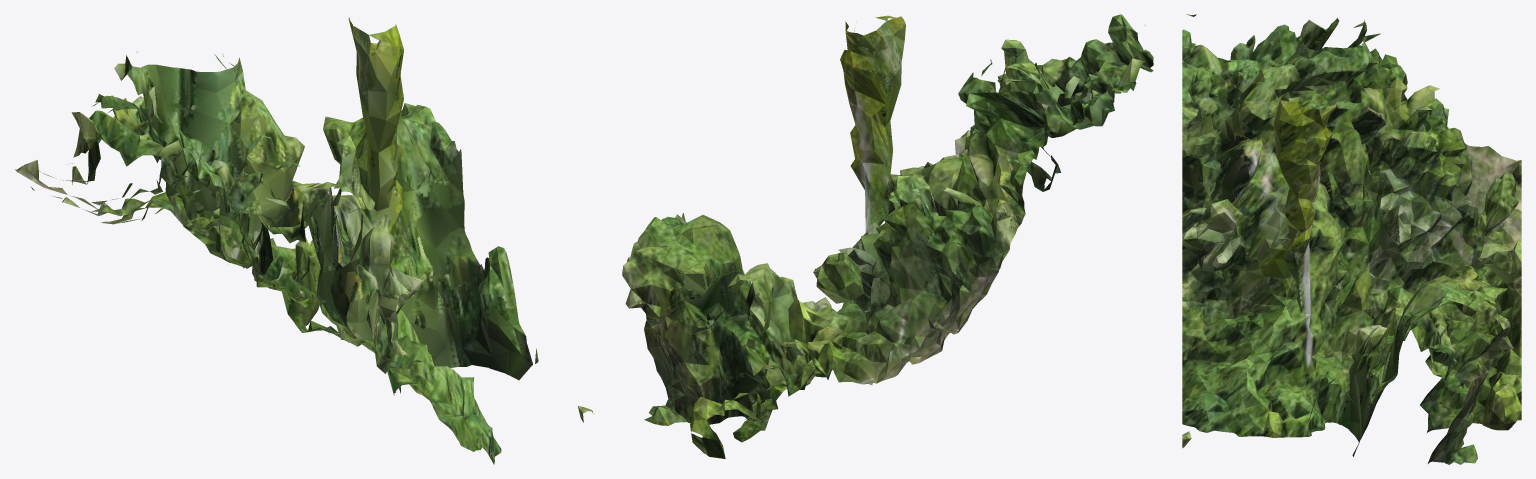
The picture shows the model from 3 angles, left to right: view 1: azimuth 30°, elevation 25°; view 2: azimuth 150°, elevation 25°; view 3: azimuth 270°, elevation 25°; orthographic projection. The views are drawn at different scales.
Size of the model in its own units: 26.11 by 26.11 by 26.11.
7 materials, 7 textured.
